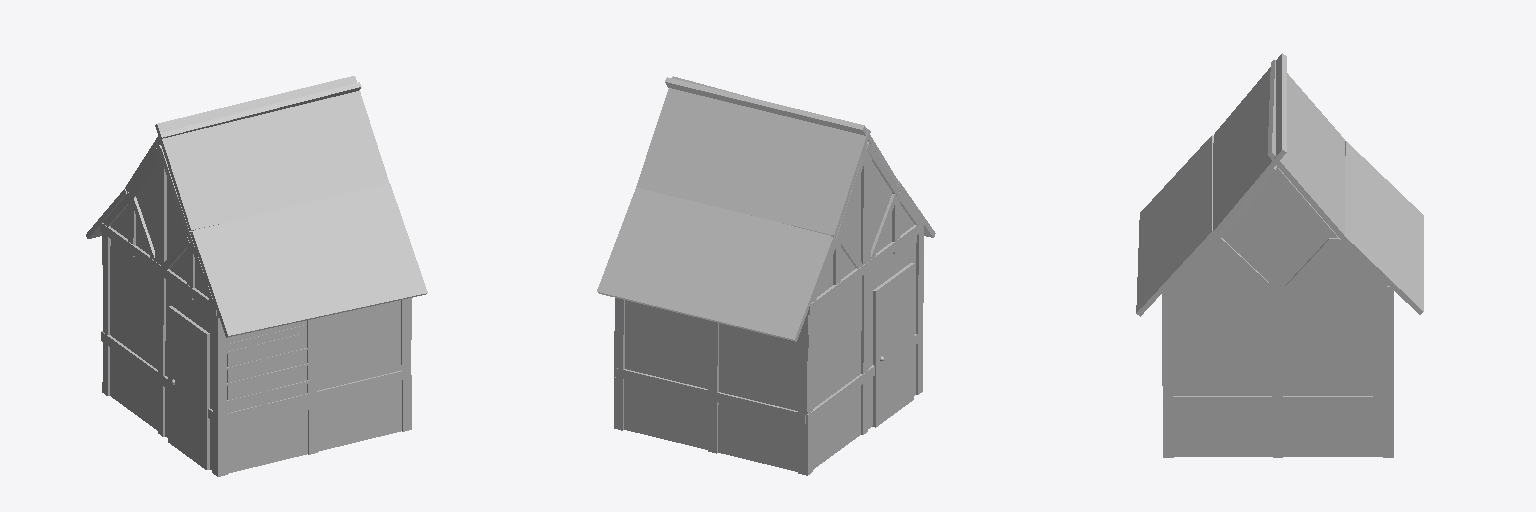
Rendered from town house mini.obj.
3 views of the same model, side by side, from view 1: azimuth 30°, elevation 25°; view 2: azimuth 150°, elevation 25°; view 3: azimuth 270°, elevation 25° (orthographic).
Visible parts, largest first — view 1: Cube.064_Cube.001; view 2: Cube.064_Cube.001; view 3: Cube.064_Cube.001.
Part boxes in pixels (left/top/right/bottom): Cube.064_Cube.001: left=86, top=76, right=427, bottom=476; Cube.064_Cube.001: left=597, top=76, right=935, bottom=475; Cube.064_Cube.001: left=1136, top=53, right=1423, bottom=457.
Size of the model in its own units: 2.87 by 4.25 by 3.57.